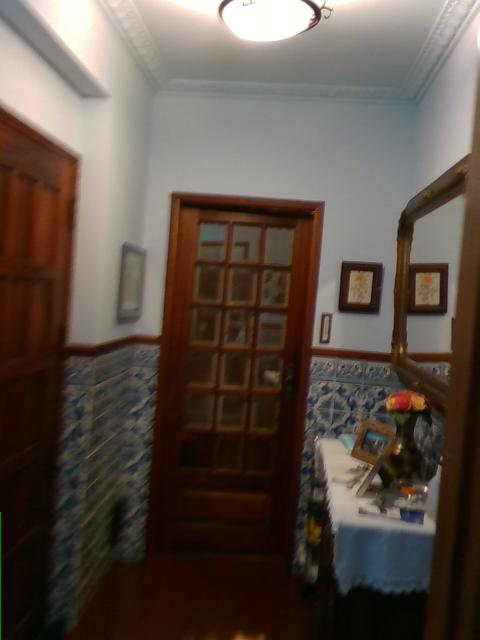door: (146, 189, 327, 564), (1, 102, 82, 627)
